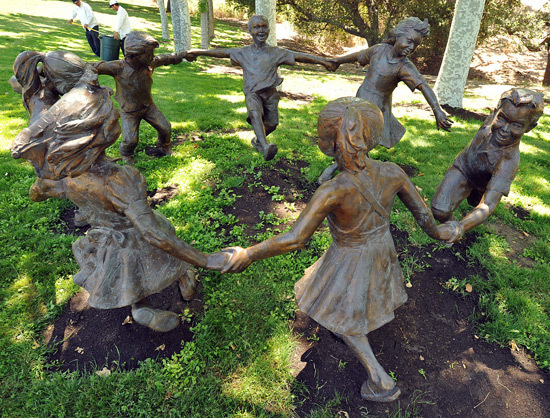person: (67, 1, 105, 59), (107, 1, 135, 55)
person-like: (217, 93, 460, 405), (12, 76, 241, 335), (189, 12, 339, 163), (429, 84, 550, 250), (330, 14, 455, 156), (7, 47, 87, 128)
